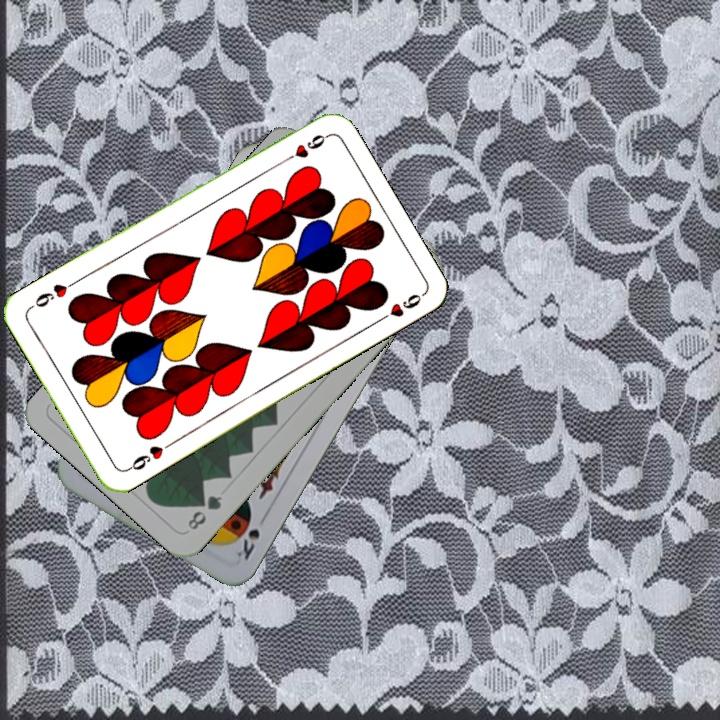G8: (183, 491, 225, 533)
H9: (276, 130, 330, 166), (122, 438, 175, 474)
SK: (232, 510, 270, 563)
